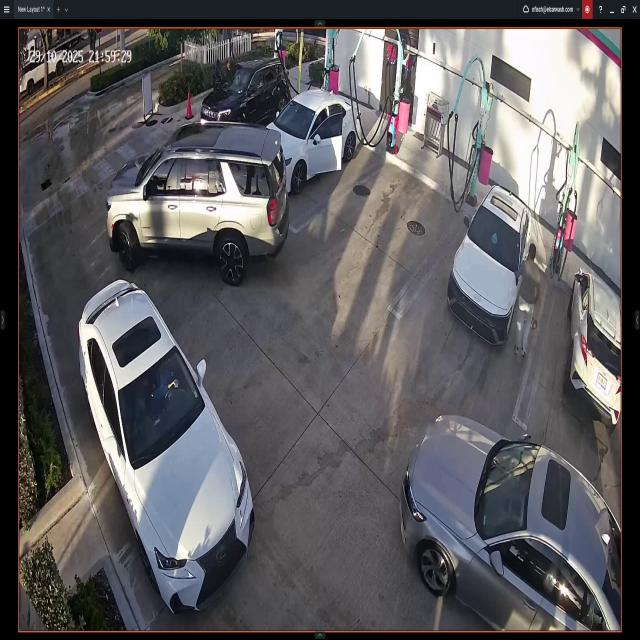Car: (78, 281, 254, 619), (402, 413, 622, 634), (109, 123, 288, 282), (451, 185, 531, 345), (270, 89, 364, 192), (570, 270, 622, 429), (202, 54, 291, 127)
